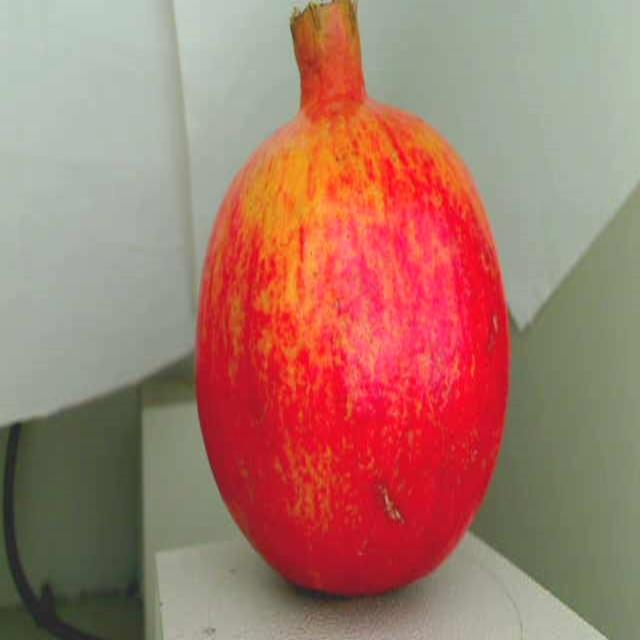pomegranate: (185, 0, 517, 610)
